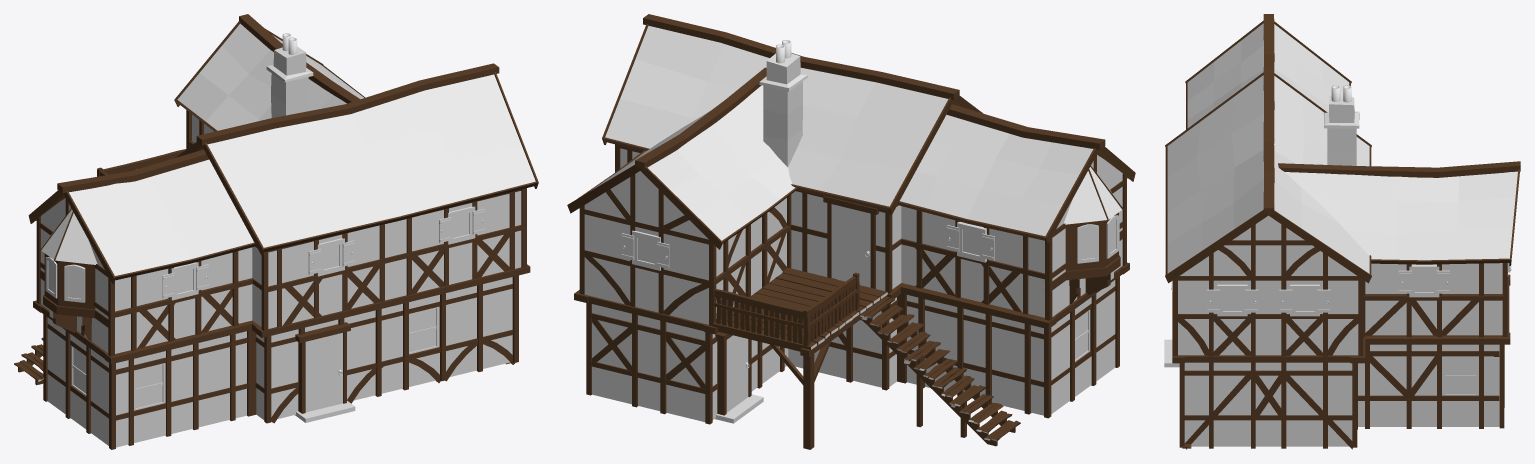
File: House2_1Upload.fbx
3 views of the same model, side by side, from view 1: azimuth 30°, elevation 25°; view 2: azimuth 150°, elevation 25°; view 3: azimuth 270°, elevation 25° (orthographic). The views are drawn at different scales.
Visible parts, largest first — view 1: Roof, WoodenBeams, HouseLevel1, HouseLevel2, RoofFrame, WindowFrames, Door1, Chimney, Door1Frame, Windows1Level1, Windows2Level1, WoodenStair (+2 smaller); view 2: Roof, WoodenBeams, HouseLevel2, HouseLevel1, RoofFrame, BackBalcony, WoodenStair, Chimney, WindowFrames, Door3, Door2, Door3Frame (+2 smaller); view 3: Roof, WoodenBeams, HouseLevel2, HouseLevel1, RoofFrame, WindowFrames, Chimney, Windows4Level1, Windows10Level2, Windows9Level2, Windows11Level2.
Boxes of the visible parts, x1,y1,x2,y2 form: Roof: (41, 23, 535, 275); WoodenBeams: (33, 110, 530, 449); HouseLevel1: (47, 277, 512, 447); HouseLevel2: (41, 114, 521, 353); RoofFrame: (28, 14, 538, 283); WindowFrames: (45, 206, 485, 410); Door1: (305, 333, 342, 412); Chimney: (266, 47, 313, 117); Door1Frame: (295, 322, 350, 413); Windows1Level1: (409, 308, 436, 352); Windows2Level1: (136, 364, 162, 408); WoodenStair: (14, 337, 43, 385); Roof: (591, 25, 1122, 240); WoodenBeams: (574, 144, 1129, 424); HouseLevel2: (584, 148, 1122, 324); HouseLevel1: (592, 280, 1115, 421); RoofFrame: (567, 14, 1135, 249); BackBalcony: (712, 267, 887, 449); WoodenStair: (860, 296, 1020, 446); Chimney: (759, 53, 807, 167); WindowFrames: (621, 212, 1119, 361); Door3: (831, 204, 870, 287); Door2: (726, 335, 748, 412); Door3Frame: (823, 196, 878, 288); Roof: (1167, 23, 1517, 273); WoodenBeams: (1172, 224, 1510, 449); HouseLevel2: (1178, 215, 1502, 355); HouseLevel1: (1184, 344, 1499, 446); RoofFrame: (1165, 14, 1520, 283); WindowFrames: (1171, 263, 1511, 395); Chimney: (1323, 96, 1359, 165); Windows4Level1: (1445, 357, 1475, 393); Windows10Level2: (1295, 290, 1314, 310); Windows9Level2: (1415, 271, 1433, 291); Windows11Level2: (1223, 290, 1241, 310).
Bounding box in the file's own units: 1353 × 887 × 953.
